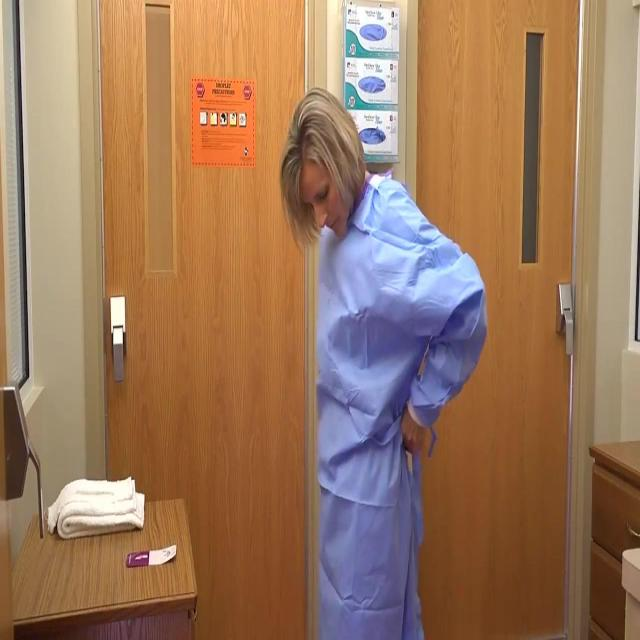Coverall: (310, 212, 470, 640)
